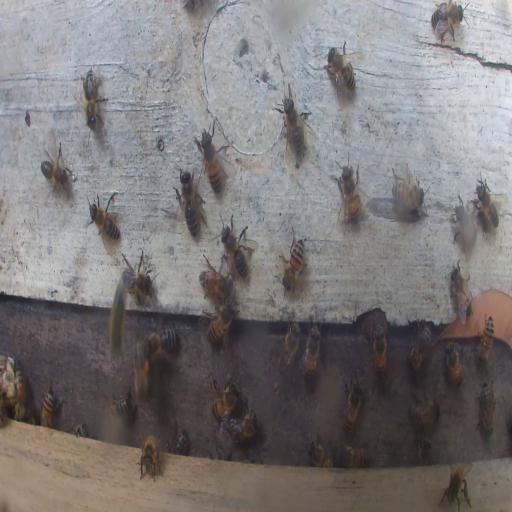bee: (278, 82, 308, 160), (218, 215, 254, 280), (334, 152, 363, 225), (175, 168, 205, 234), (196, 125, 224, 195), (325, 42, 357, 100), (40, 141, 73, 195), (440, 460, 474, 512), (88, 194, 122, 245), (280, 231, 306, 295), (390, 167, 426, 213), (121, 252, 154, 302), (342, 370, 365, 434), (430, 2, 466, 42), (450, 261, 474, 321), (108, 278, 126, 354), (80, 68, 102, 130), (475, 175, 499, 231), (206, 300, 236, 344), (212, 378, 240, 423), (199, 259, 231, 298), (138, 434, 164, 481), (453, 203, 479, 249), (132, 338, 151, 397), (407, 324, 431, 370), (408, 393, 440, 427), (226, 409, 257, 444), (144, 326, 178, 356), (302, 323, 320, 379), (477, 380, 495, 436), (281, 319, 300, 370), (445, 343, 464, 386), (477, 314, 494, 362), (110, 382, 135, 414), (12, 360, 27, 412), (41, 386, 59, 428), (372, 324, 386, 376), (308, 442, 332, 468), (341, 444, 368, 467), (167, 428, 189, 454), (416, 438, 431, 464), (74, 422, 88, 437)
